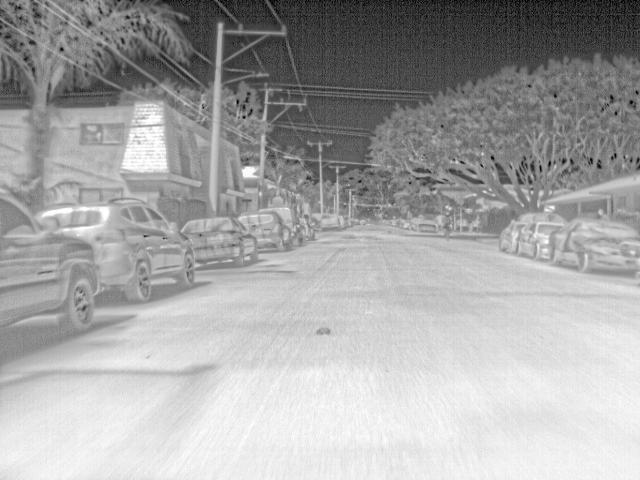car: (35, 197, 198, 302), (1, 187, 101, 345), (548, 216, 640, 273), (180, 215, 259, 265), (237, 210, 295, 253), (256, 206, 307, 246), (519, 221, 551, 260), (498, 219, 526, 254), (298, 217, 316, 241), (320, 213, 342, 232), (413, 213, 437, 230), (341, 214, 353, 230), (409, 216, 421, 232), (394, 216, 407, 228), (350, 215, 363, 226), (384, 215, 397, 226), (359, 217, 368, 226)
person: (441, 207, 454, 228), (595, 207, 611, 221)
